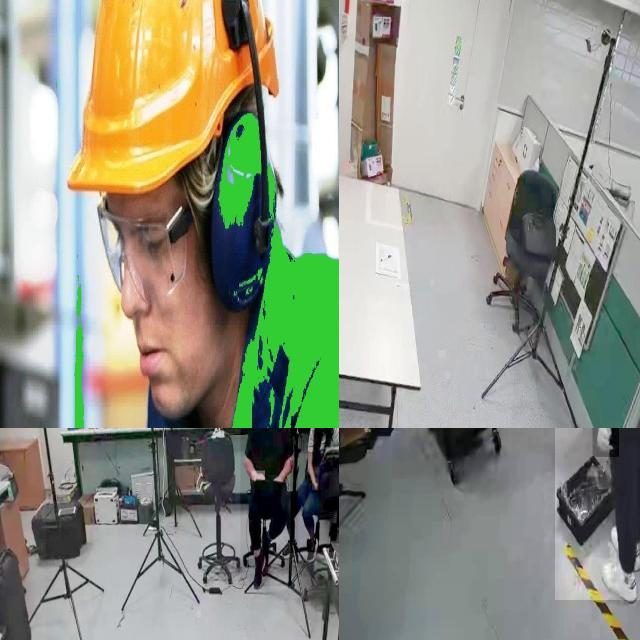Ear-protection: (214, 90, 286, 333)
hand_glove: (592, 428, 619, 457)
hand_noglove: (252, 471, 266, 481), (272, 474, 285, 482), (312, 479, 319, 491)
head_helmet: (65, 0, 311, 211)
person: (555, 428, 640, 601), (240, 428, 298, 587), (290, 428, 339, 553)
shoes: (602, 553, 640, 610), (250, 548, 268, 594)
